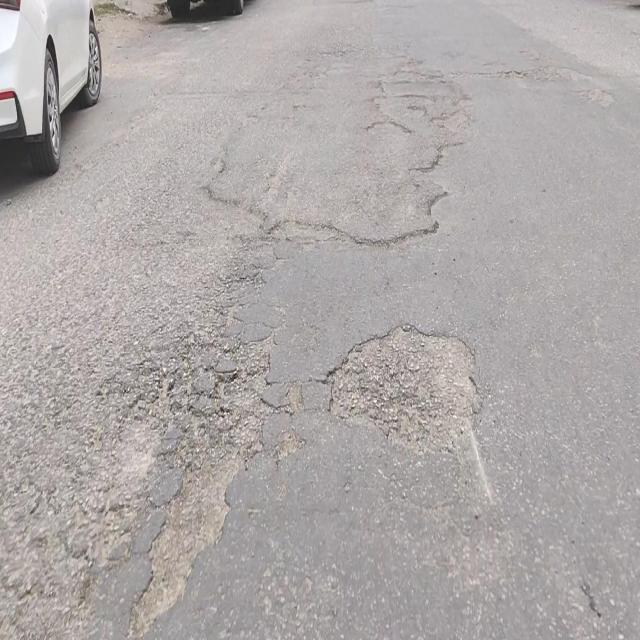Potholes: (126, 447, 243, 636), (329, 320, 479, 439)
